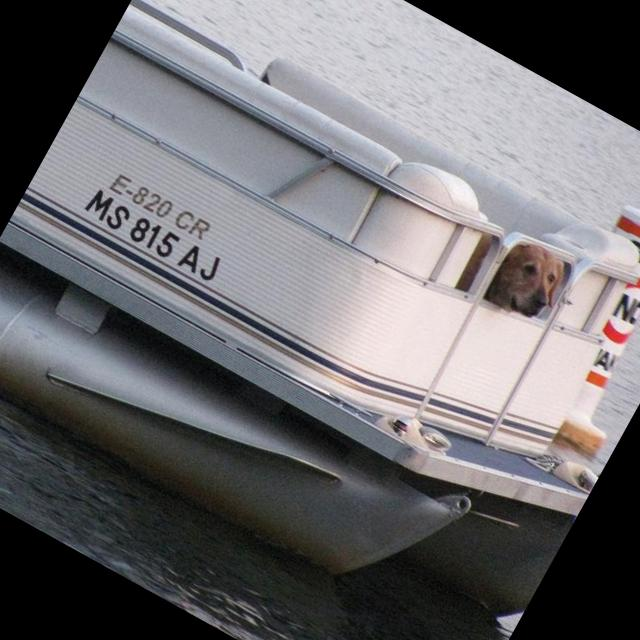boat: (0, 0, 640, 640)
dog: (451, 218, 575, 335)
